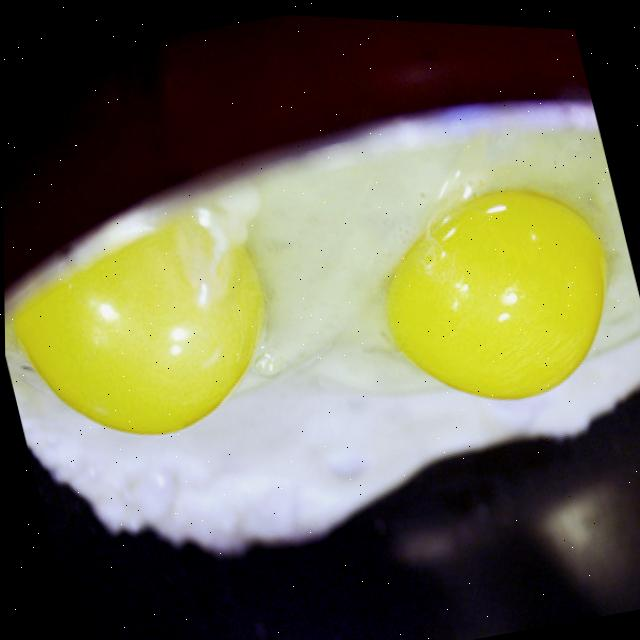鸡蛋料理: (1, 50, 640, 610)
